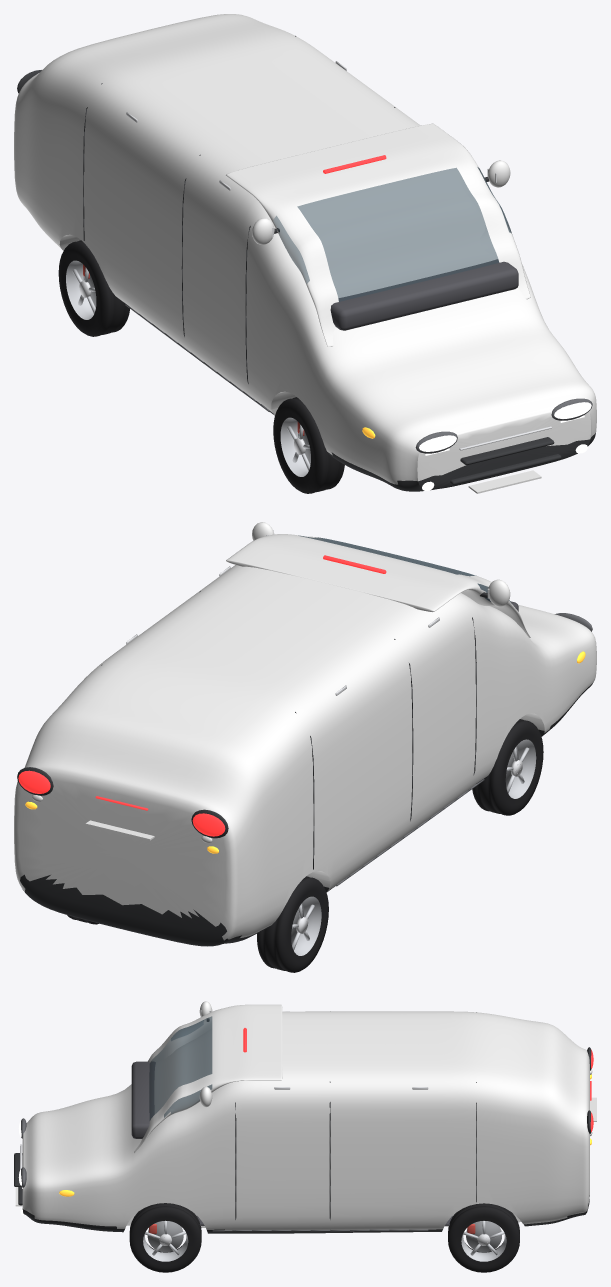
Rendered from voiture-fourgon-trafic.glb.
3 renders of one model, top to bottom at view 1: azimuth 30°, elevation 25°; view 2: azimuth 150°, elevation 25°; view 3: azimuth 270°, elevation 25°, orthographic. The views are drawn at different scales.
Parts seen in each view (by area): view 1: carrosserie, habitacle, planche, roue_av_g_m, roue_ar_g_m, calandre, prise_air, plaque_av; view 2: carrosserie, habitacle, roue_ar_g_m, roue_av_g_m; view 3: carrosserie, habitacle, roue_av_d_m, roue_ar_d_m, planche, jonc.001.
Boxes of the visible parts, <box> form: carrosserie: <box>14,14,596,491</box>; habitacle: <box>226,123,530,346</box>; planche: <box>330,259,518,330</box>; roue_av_g_m: <box>273,397,344,493</box>; roue_ar_g_m: <box>58,240,129,336</box>; calandre: <box>460,437,554,465</box>; prise_air: <box>450,454,561,484</box>; plaque_av: <box>468,470,541,493</box>; carrosserie: <box>14,565,596,946</box>; habitacle: <box>226,534,530,637</box>; roue_ar_g_m: <box>257,876,328,972</box>; roue_av_g_m: <box>472,719,543,815</box>; carrosserie: <box>22,1011,589,1233</box>; habitacle: <box>134,1004,282,1152</box>; roue_av_d_m: <box>129,1203,201,1272</box>; roue_ar_d_m: <box>448,1203,519,1272</box>; planche: <box>131,1061,155,1138</box>; jonc.001: <box>212,1229,428,1231</box>.
Size of the model in its own units: 2.07 by 2.02 by 5.49.
